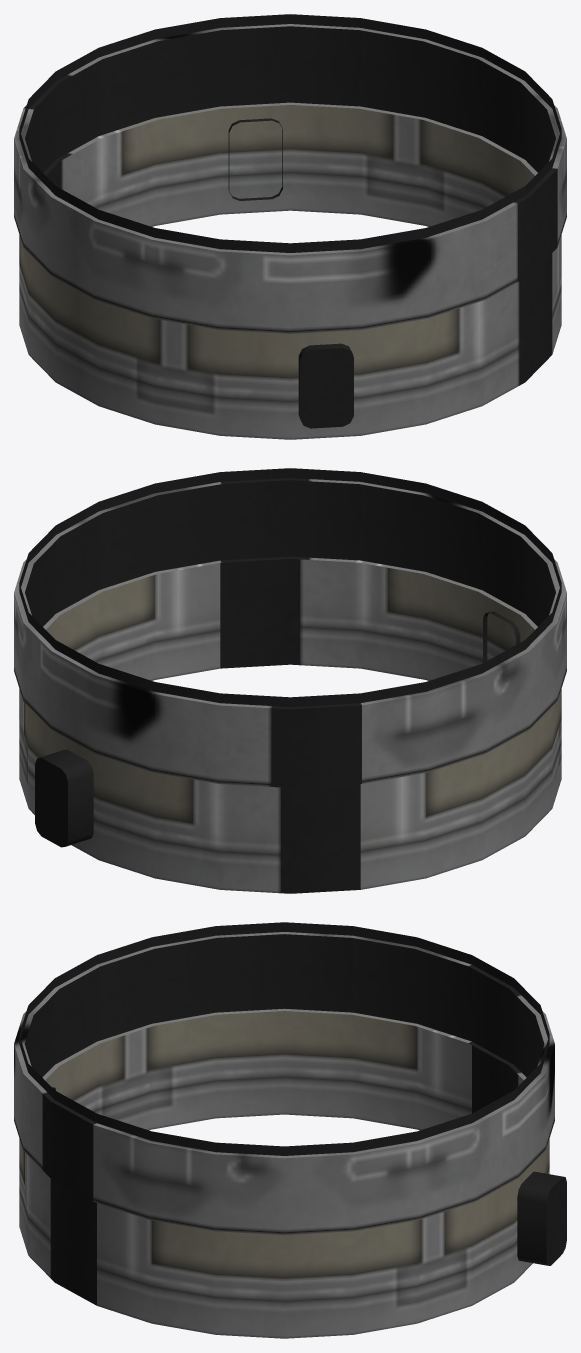
The model's file is basic_fuel_tank.fbx.
3 renders of one model, top to bottom at view 1: azimuth 30°, elevation 25°; view 2: azimuth 150°, elevation 25°; view 3: azimuth 270°, elevation 25°, orthographic. The views are drawn at different scales.
Visible parts, largest first — view 1: 1; view 2: 1; view 3: 1.
Part boxes in pixels (left/top/right/bottom): 1: left=14, top=14, right=566, bottom=439; 1: left=14, top=468, right=566, bottom=893; 1: left=14, top=922, right=566, bottom=1338.
Bounding box in the file's own units: 1.27 × 0.5 × 1.3.
